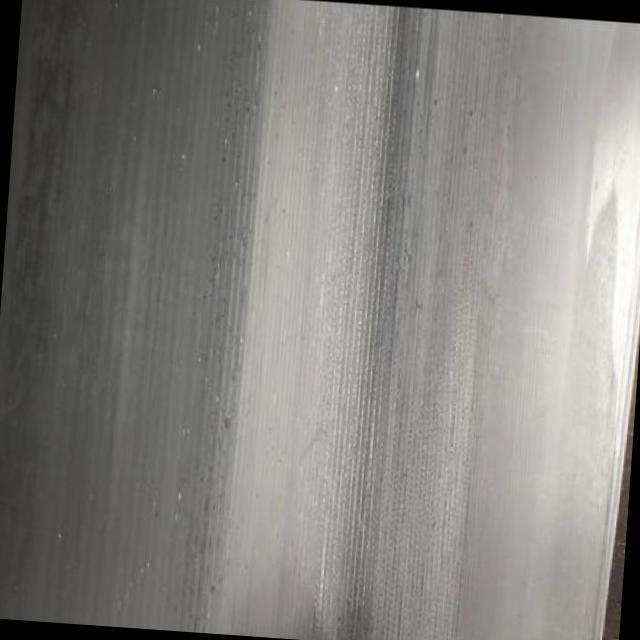Wear: (110, 0, 528, 640)
